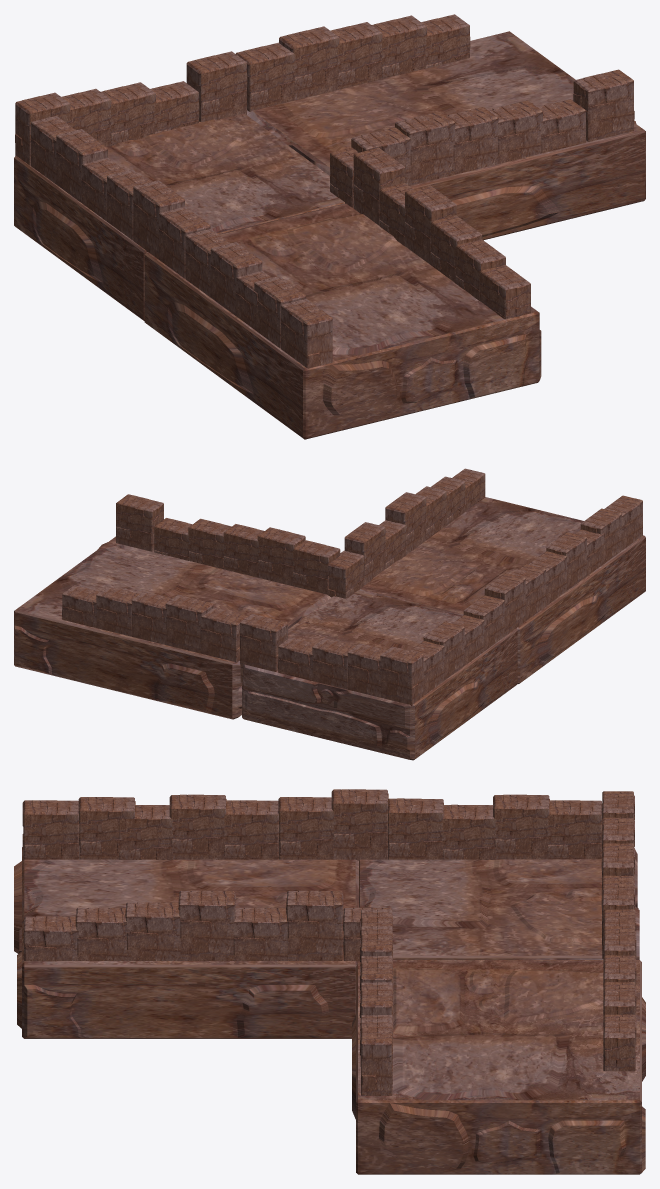
The model's file is Ponte_Curva.fbx.
3 views of the same model, one above another, from view 1: azimuth 30°, elevation 25°; view 2: azimuth 150°, elevation 25°; view 3: azimuth 270°, elevation 25° (orthographic). The views are drawn at different scales.
Parts seen in each view (by area): view 1: pCube3, pCube5, pCube4, colunas99, colunas116, colunas118, colunas106, colunas139, colunas105, colunas107, colunas101, colunas134 (+25 smaller); view 2: pCube5, pCube4, pCube3, colunas112, colunas116, colunas99, colunas118, colunas106, colunas105, colunas103, colunas101, colunas107 (+25 smaller); view 3: pCube5, pCube3, pCube4, colunas134, colunas125, colunas132, colunas128, colunas137, colunas124, colunas139, colunas126, colunas138 (+23 smaller).
Part boxes in pixels (x1,y1,x2,y2): pCube3: (144, 203, 541, 439); pCube5: (247, 31, 645, 240); pCube4: (14, 113, 344, 320); colunas99: (573, 69, 634, 141); colunas116: (186, 51, 247, 121); colunas118: (395, 111, 455, 185); colunas106: (279, 26, 339, 99); colunas139: (281, 298, 332, 368); colunas105: (236, 42, 295, 111); colunas107: (330, 22, 382, 89); colunas101: (447, 107, 498, 174); colunas134: (353, 147, 405, 225); pCube5: (14, 536, 331, 719); pCube4: (242, 590, 517, 760); pCube3: (359, 497, 645, 683); colunas112: (380, 646, 423, 706); colunas116: (240, 614, 287, 682); colunas99: (116, 494, 163, 551); colunas118: (257, 527, 305, 585); colunas106: (165, 595, 213, 653); colunas105: (200, 607, 247, 662); colunas103: (293, 540, 340, 594); colunas101: (223, 524, 264, 577); colunas107: (131, 591, 172, 645); pCube5: (352, 958, 645, 1174); pCube3: (14, 846, 358, 1038); pCube4: (359, 849, 639, 959); colunas134: (286, 890, 343, 960); colunas125: (331, 789, 388, 860); colunas132: (178, 890, 235, 960); colunas128: (493, 794, 549, 859); colunas137: (169, 794, 226, 859); colunas124: (278, 797, 333, 859); colunas139: (22, 800, 79, 859); colunas126: (388, 798, 443, 859); colunas138: (224, 800, 278, 859).
Bounding box in the file's own units: 7.03 × 1.66 × 7.18.
2 materials, 2 textured.
